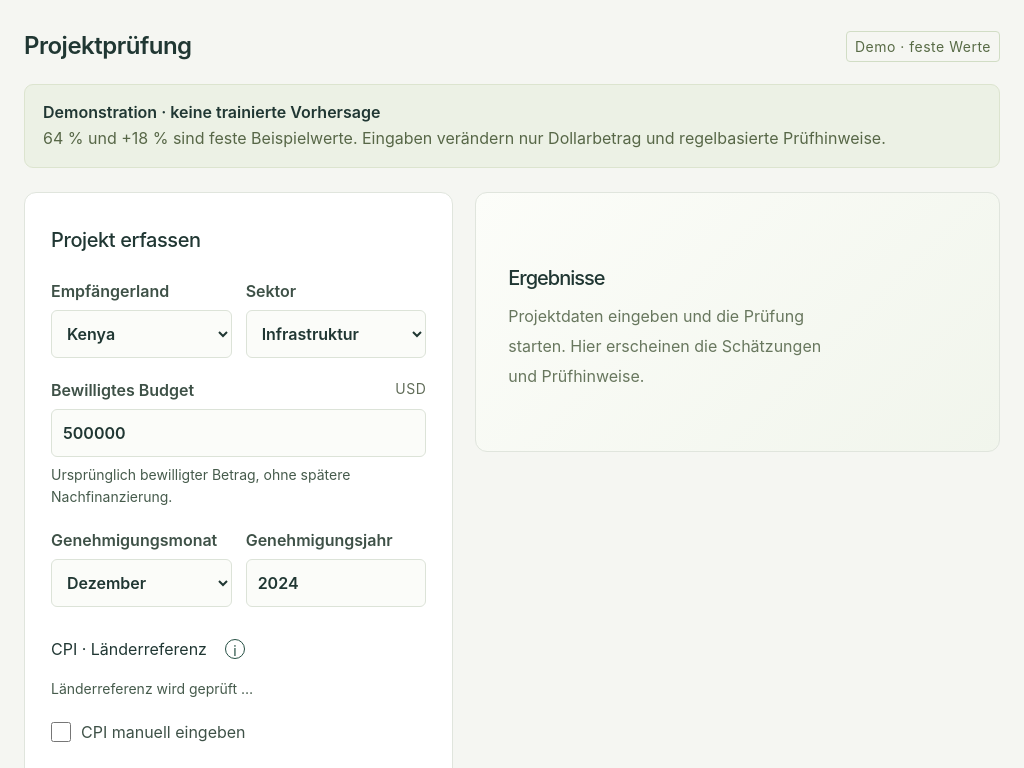
Test: announces safe CPI reset after changing Genehmigungsjahr
Click the checkbox labelled "CPI manuell eingeben".
click(61, 732)  # box [51,722,71,742]
(page scrolled)
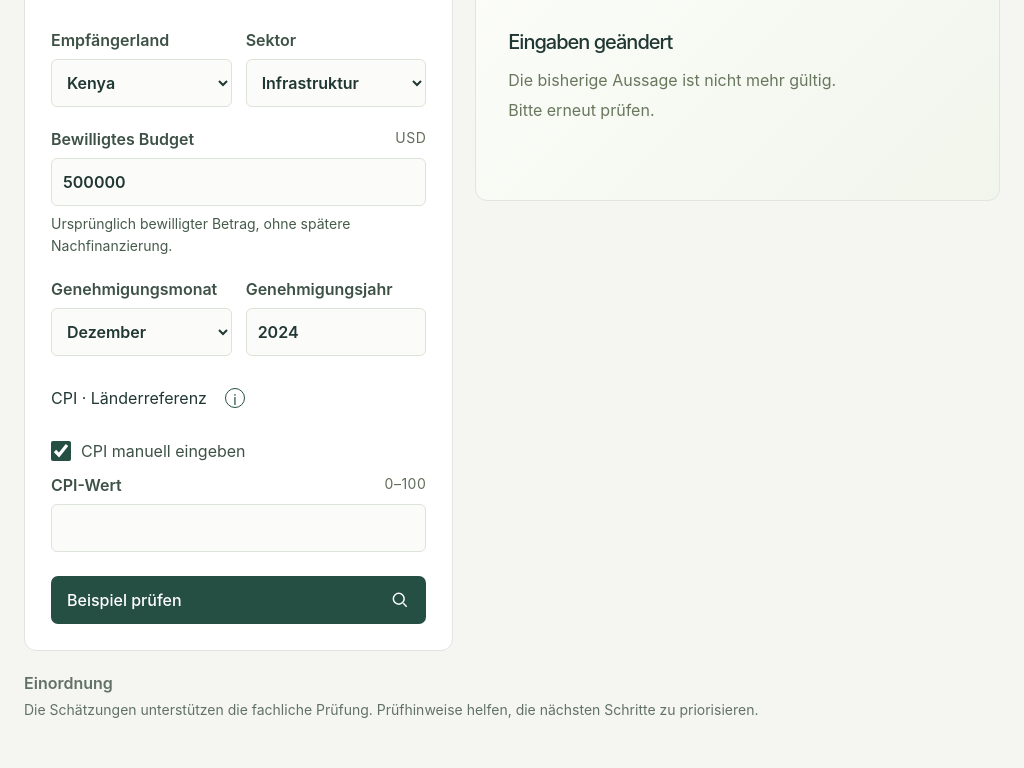
Type "31" into the number field labelled "CPI-Wert 0–100".
click(239, 528); type("31")  # box [51,504,426,552]
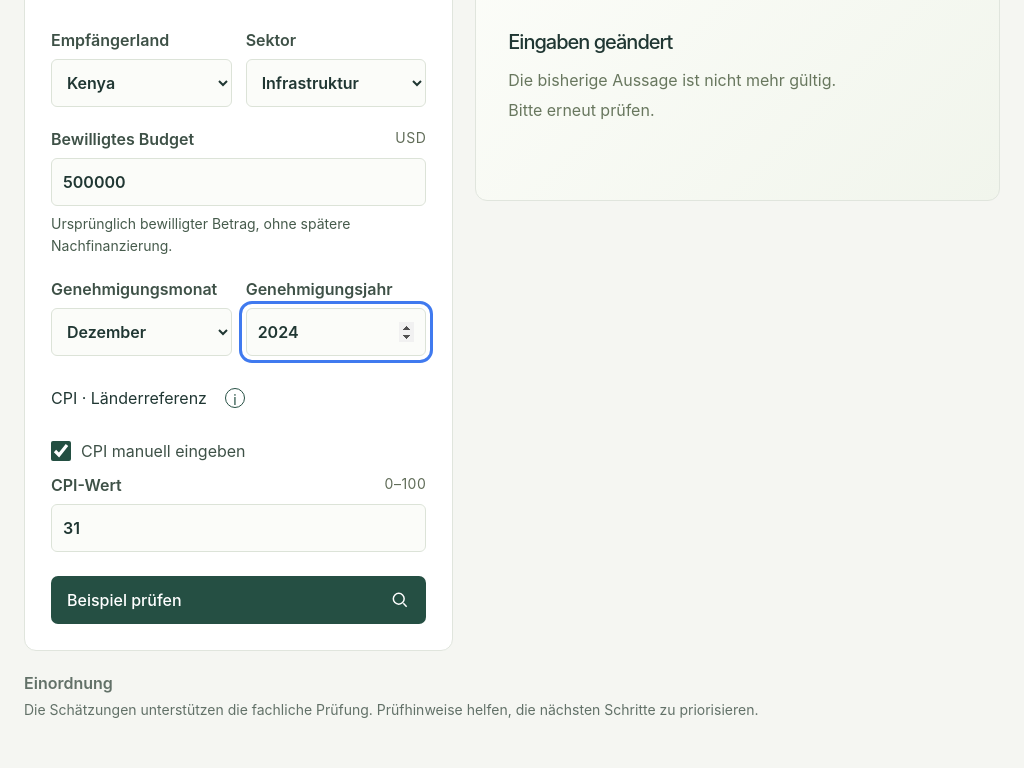
Replace the text in the number field labelled "Genehmigungsjahr" with "2023" at x=336, y=332, box [246,308,426,356]
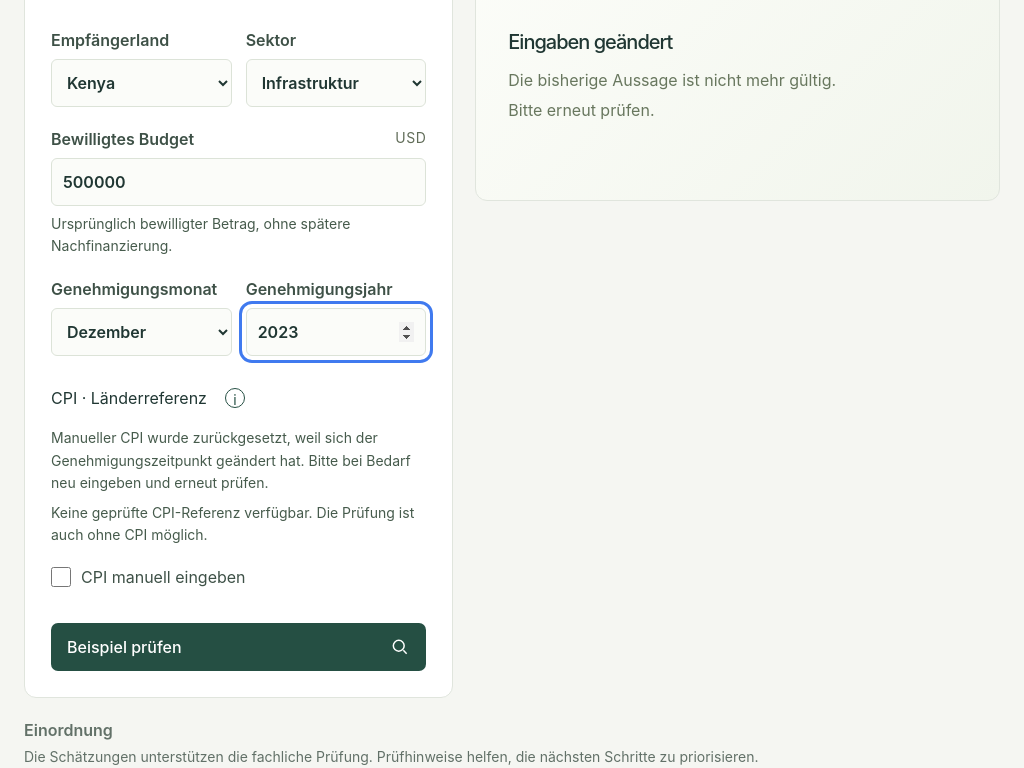
Expected: the checkbox labelled "CPI manuell eingeben" is not checked, [51,567,71,587]
Expected: the text "Manueller CPI wurde zurückgesetzt" shows "Genehmigungszeitpunkt", [51,429,411,491]
Expected: the label labelled "CPI-Wert" is gone
